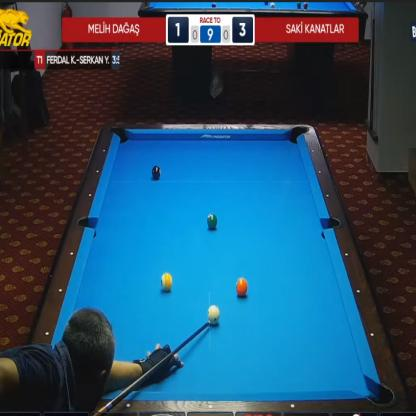Ball: (236, 277, 248, 297), (208, 304, 219, 324), (161, 272, 172, 291), (207, 212, 217, 230), (151, 164, 161, 180)
